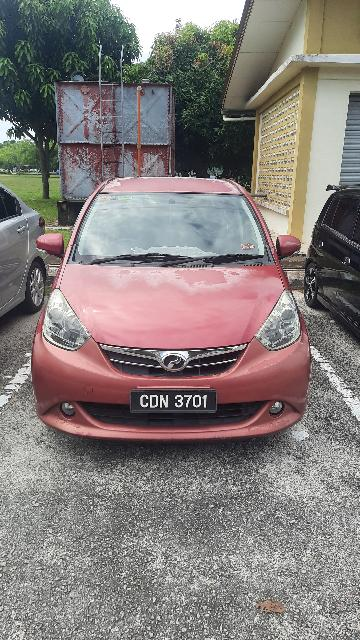License_Plate: (128, 388, 221, 418)
car: (29, 175, 320, 450)
